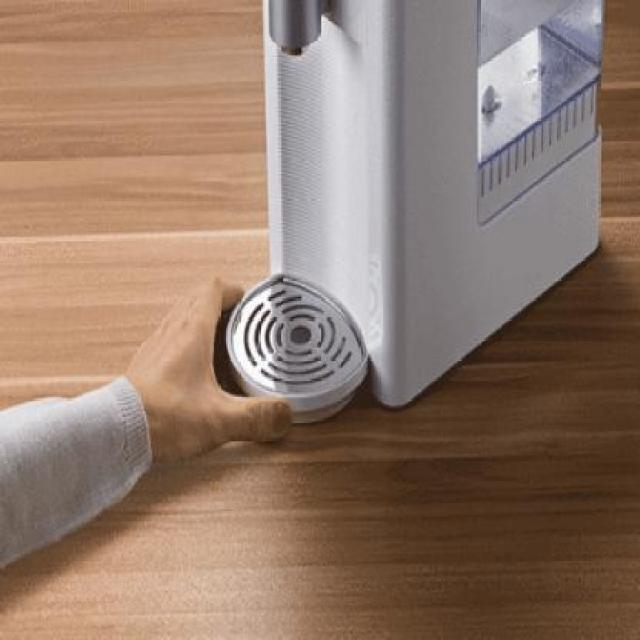cooler: (225, 0, 606, 425)
